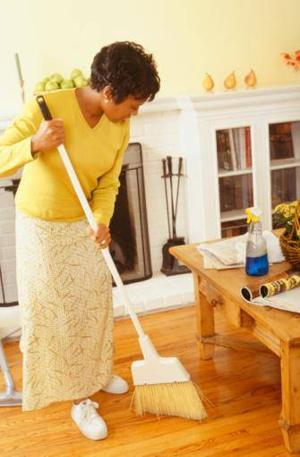person: (2, 39, 162, 443)
